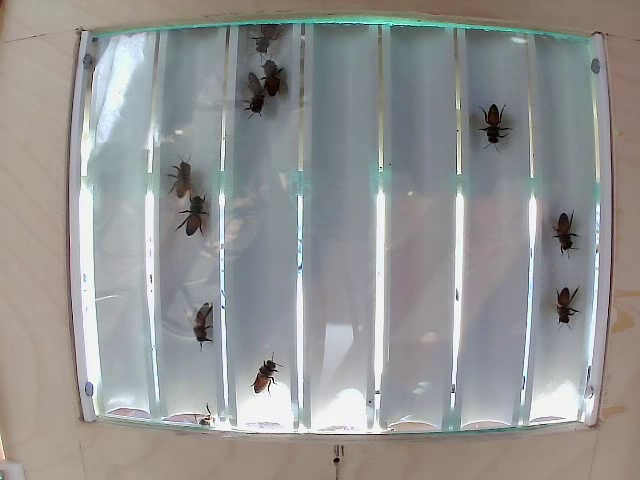bee: (237, 69, 277, 126), (546, 275, 584, 329), (162, 164, 205, 204), (252, 60, 290, 105), (467, 105, 504, 151), (186, 195, 218, 243), (181, 301, 215, 343), (246, 22, 284, 59), (552, 209, 578, 257), (267, 355, 300, 392)
